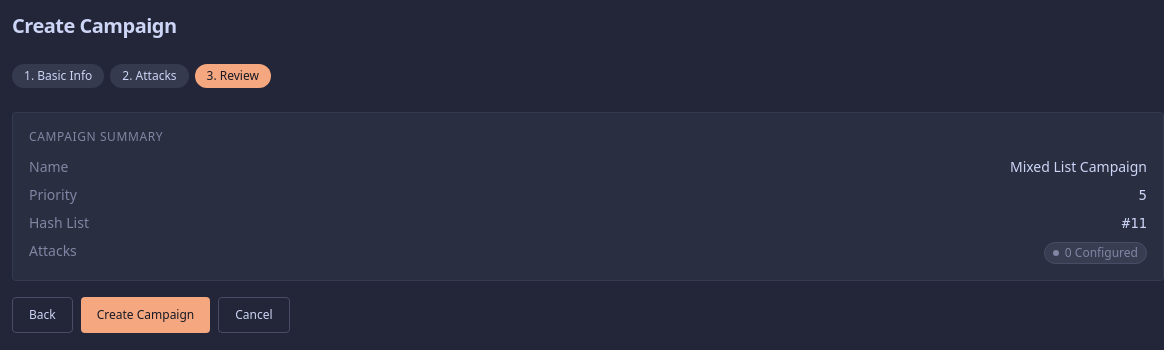
Test case: CampaignCreatePage async split-pending -> status polling (issue #202 SU7) › does not act on a stale cached terminal status while the status query is still revalidating
Click the button "Create Campaign".
click(146, 315)  # box 81,297 -> 210,333
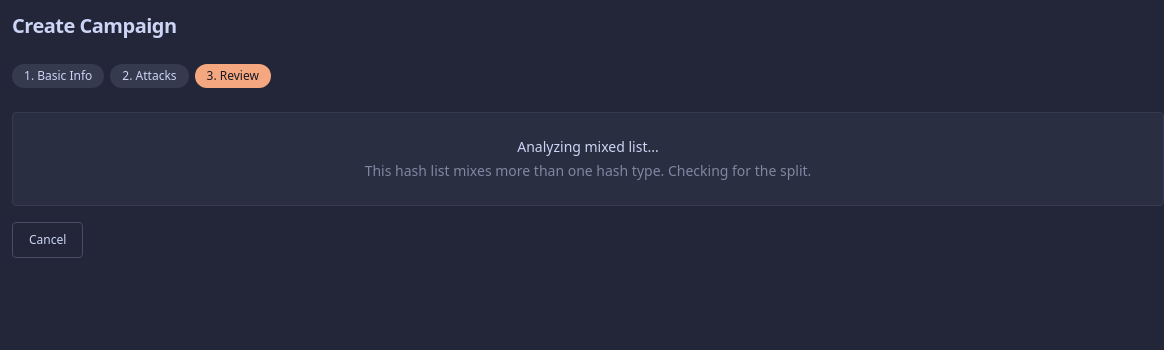
Check: the text "Analyzing mixed list..." is shown, box 517,137 -> 659,156
